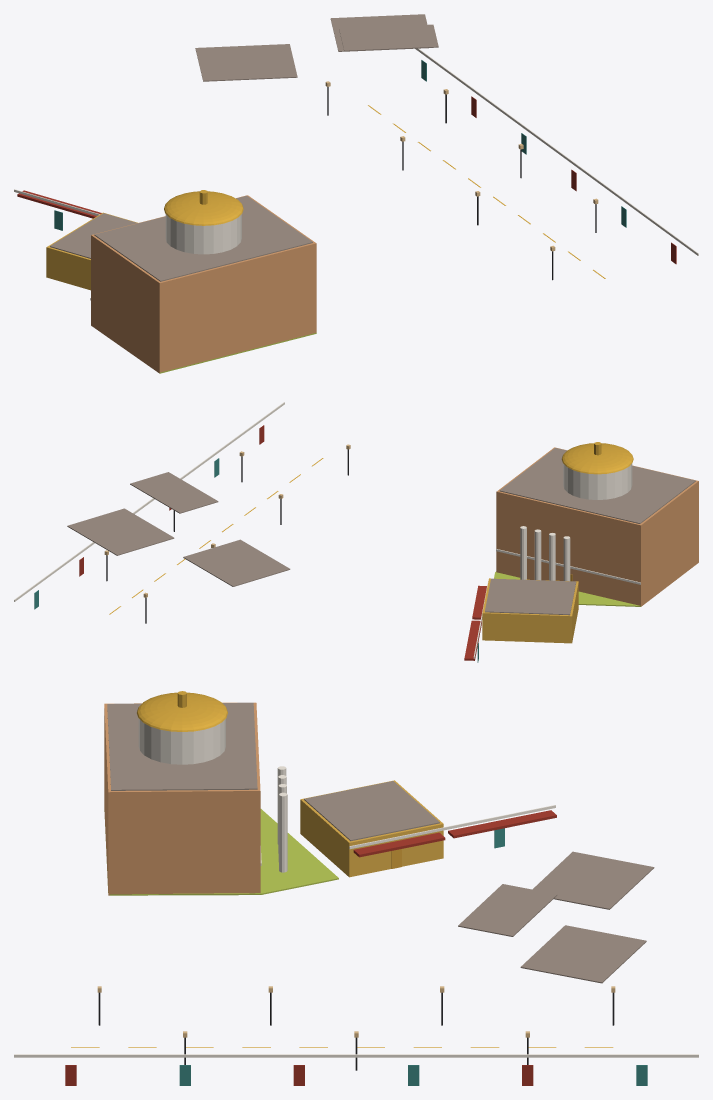
File: chunk_0_1.glb
3 views of the same model, one above another, from view 1: azimuth 30°, elevation 25°; view 2: azimuth 150°, elevation 25°; view 3: azimuth 270°, elevation 25° (orthographic). The views are drawn at different scales.
Visible parts, largest first — view 1: chunk_0_1__building, chunk_0_1__statehouse, chunk_0_1__lamp; view 2: chunk_0_1__building, chunk_0_1__statehouse, chunk_0_1__ground, chunk_0_1__lamp; view 3: chunk_0_1__building, chunk_0_1__statehouse, chunk_0_1__ground, chunk_0_1__lamp.
Boxes of the visible parts, left/top/right/bottom form: chunk_0_1__building: left=14, top=14, right=698, bottom=373; chunk_0_1__statehouse: left=164, top=190, right=243, bottom=254; chunk_0_1__lamp: left=325, top=81, right=598, bottom=280; chunk_0_1__building: left=14, top=402, right=698, bottom=662; chunk_0_1__statehouse: left=520, top=442, right=633, bottom=581; chunk_0_1__ground: left=109, top=458, right=640, bottom=614; chunk_0_1__lamp: left=104, top=444, right=350, bottom=623; chunk_0_1__building: left=14, top=702, right=698, bottom=1085; chunk_0_1__statehouse: left=137, top=691, right=287, bottom=872; chunk_0_1__ground: left=71, top=809, right=613, bottom=1047; chunk_0_1__lamp: left=97, top=986, right=615, bottom=1070.
Bounding box in the file's own units: 69.64 × 18.3 × 72.
